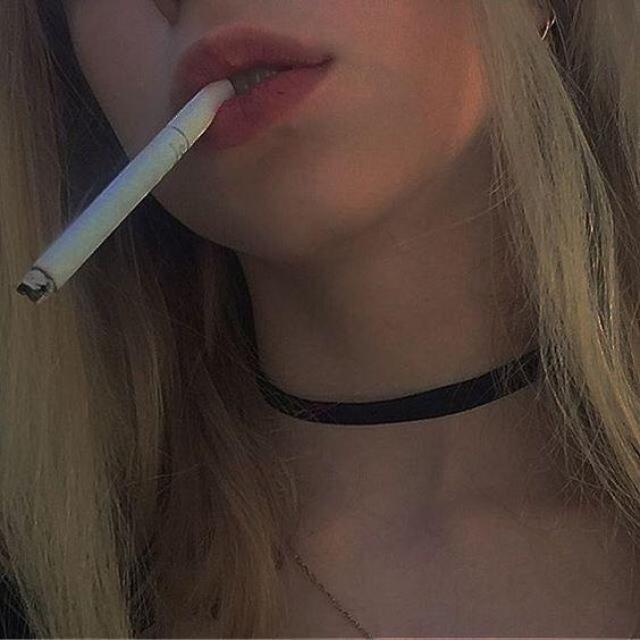cigarette: (0, 33, 210, 315)
